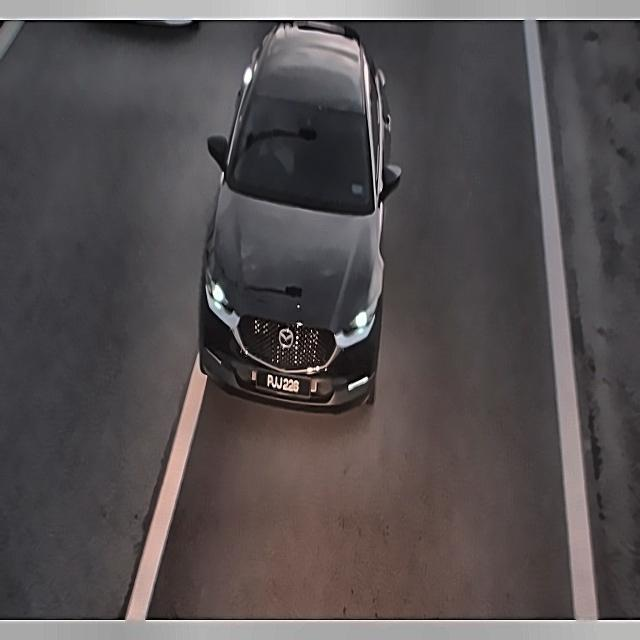car: (254, 366, 318, 402)
